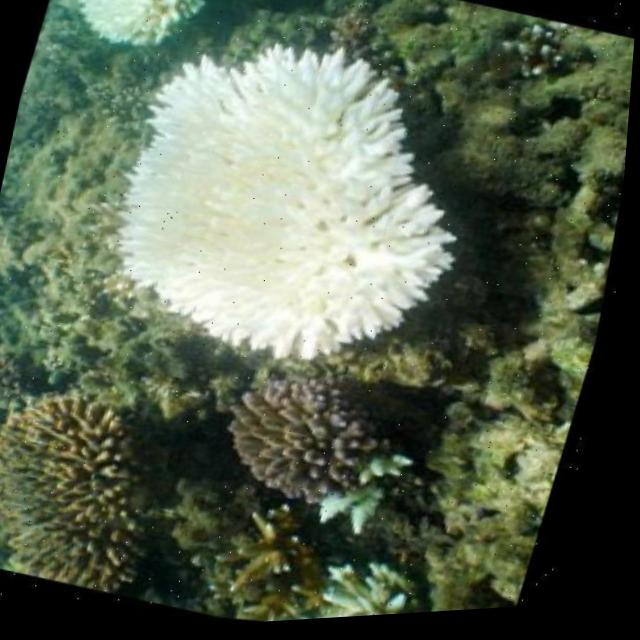Bleached Coral: (60, 0, 552, 432), (36, 0, 249, 89)
